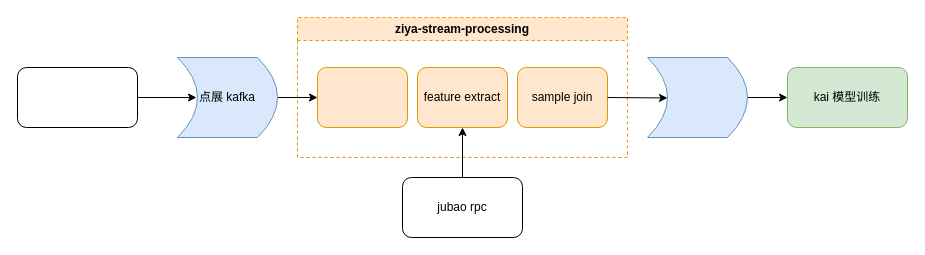
This 925x255 diagram has some shape labels left out. The centre of each missing label's shape, as x and y in pixels:
"数据采样/过滤" belongs at (362,97).
"样本 kafka" belongs at (697,97).
"点展聚合" belongs at (77,97).
